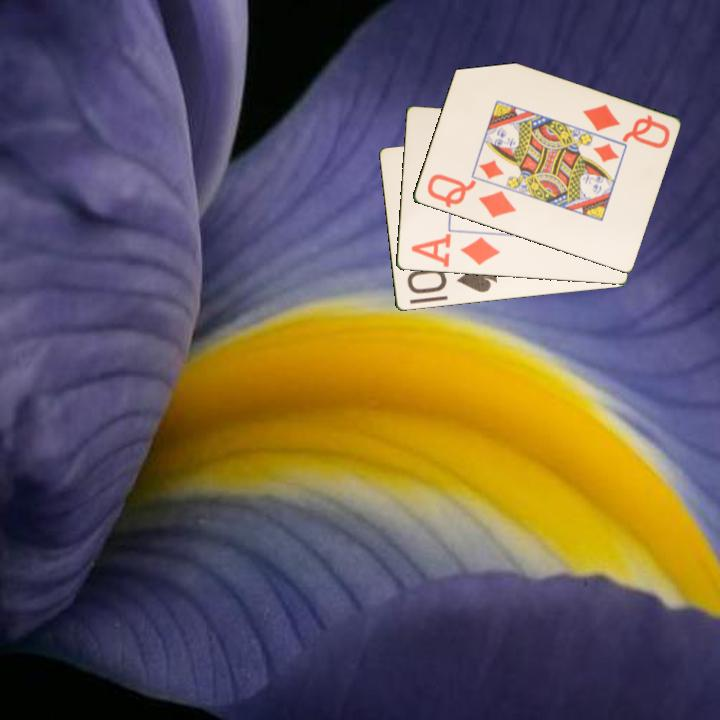10s: (403, 261, 500, 297)
Ad: (408, 231, 503, 270)
Qd: (423, 170, 519, 221), (578, 100, 672, 152)
